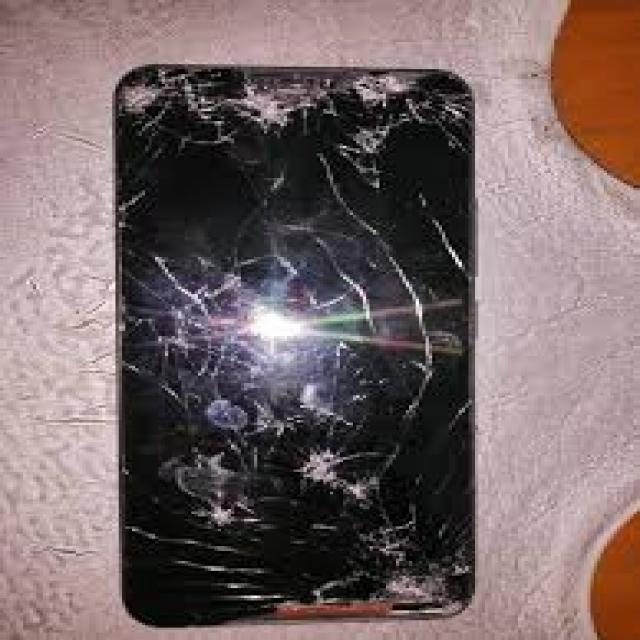mobile phone: (109, 62, 478, 625)
